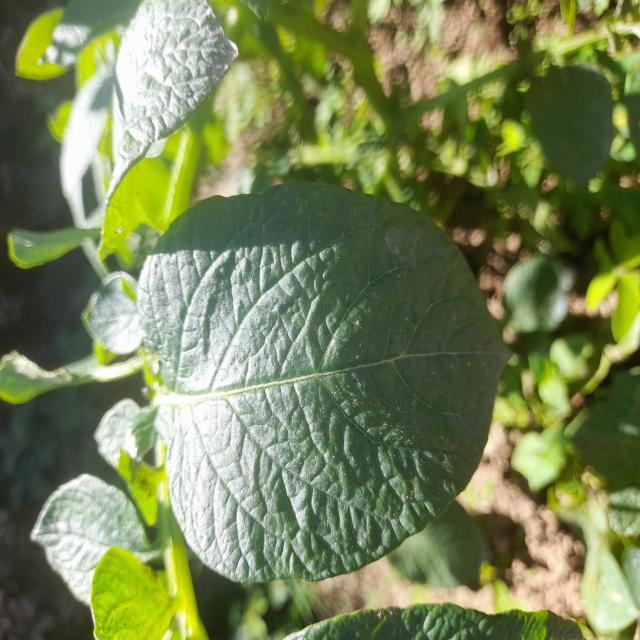healthy: (133, 180, 513, 586)
